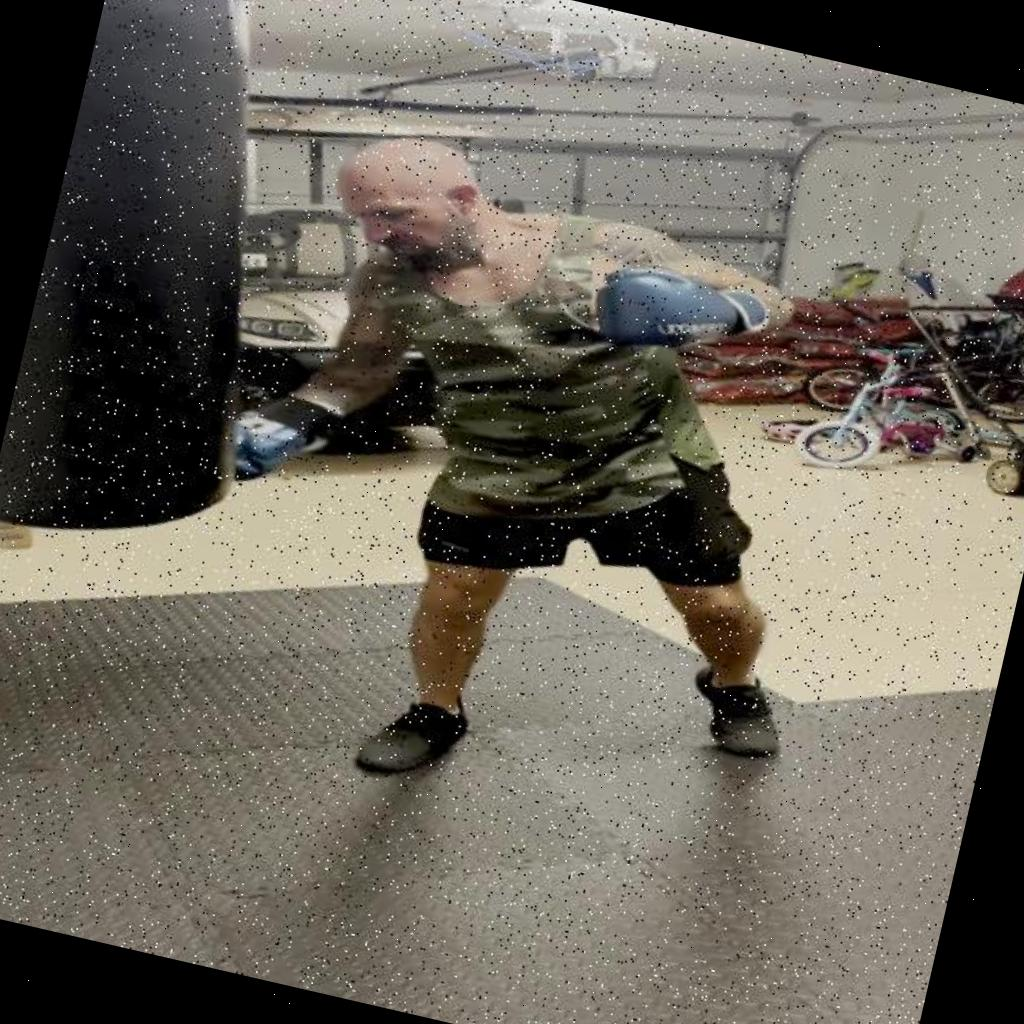bag: (0, 0, 387, 601)
uppercut: (81, 0, 838, 625)
